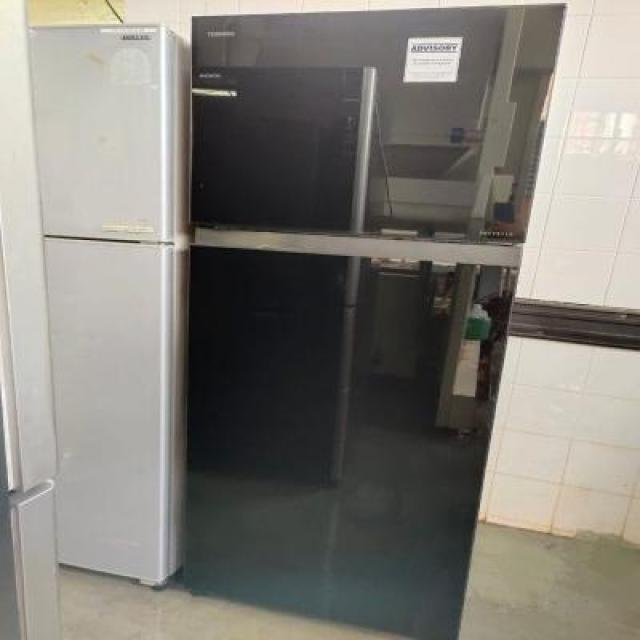refrigerator: (175, 1, 570, 640)
